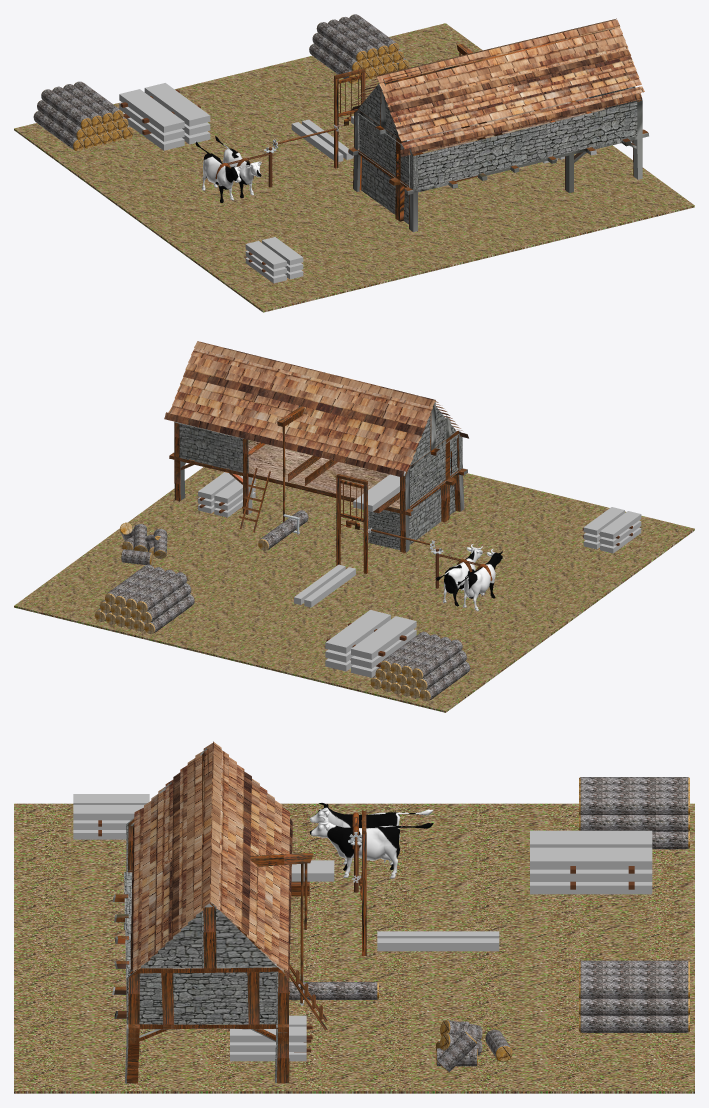
File: Sawmill_Human.fbx
The picture shows the model from 3 angles, top to bottom: view 1: azimuth 30°, elevation 25°; view 2: azimuth 150°, elevation 25°; view 3: azimuth 270°, elevation 25°; orthographic projection. The views are drawn at different scales.
Parts seen in each view (by area): view 1: Suelo, Terrat, Casa Part0, Troncos, ListonesA, Casa Part1, ListonesB, VACAS, Sierra, EstructuraSierra; view 2: Suelo, Terrat, Casa Part0, Troncos, ListonesA, Casa Part1, ListonesB, VACAS, TroncosPeq, EstructuraSierra, ListonSierra, TroncoSierra (+1 smaller); view 3: Suelo, Terrat, Troncos, Casa Part0, ListonesA, Casa Part1, ListonesB, VACAS, TroncosPeq, TroncoSierra, ListonSierra, EstructuraSierra (+1 smaller).
Part boxes in pixels (x1,y1,x2,y2): Suelo: (14,23,694,312); Terrat: (350,18,644,156); Casa Part0: (348,29,648,232); Troncos: (33,14,408,150); ListonesA: (119,83,353,161); Casa Part1: (348,28,647,228); ListonesB: (245,156,564,283); VACAS: (195,136,268,202); Sierra: (334,73,362,168); EstructuraSierra: (334,68,365,168); Suelo: (14,467,694,712); Terrat: (164,341,468,477); Casa Part0: (175,402,467,552); Troncos: (95,564,470,701); ListonesA: (294,564,416,677); Casa Part1: (169,406,466,552); ListonesB: (198,472,641,553); VACAS: (436,544,502,611); TroncosPeq: (120,522,167,564); EstructuraSierra: (336,474,367,573); ListonSierra: (353,470,405,511); TroncoSierra: (258,510,308,550); Suelo: (14,803,694,1093); Terrat: (130,741,292,982); Troncos: (579,777,689,1032); Casa Part0: (112,748,300,1083); ListonesA: (377,830,652,951); Casa Part1: (114,748,312,1083); ListonesB: (73,794,312,1061); VACAS: (309,803,433,878); TroncosPeq: (435,1020,512,1071); TroncoSierra: (289,982,378,999); ListonSierra: (291,860,334,881); EstructuraSierra: (361,810,366,955).
Size of the model in its own units: 1454 by 445 by 1454.
